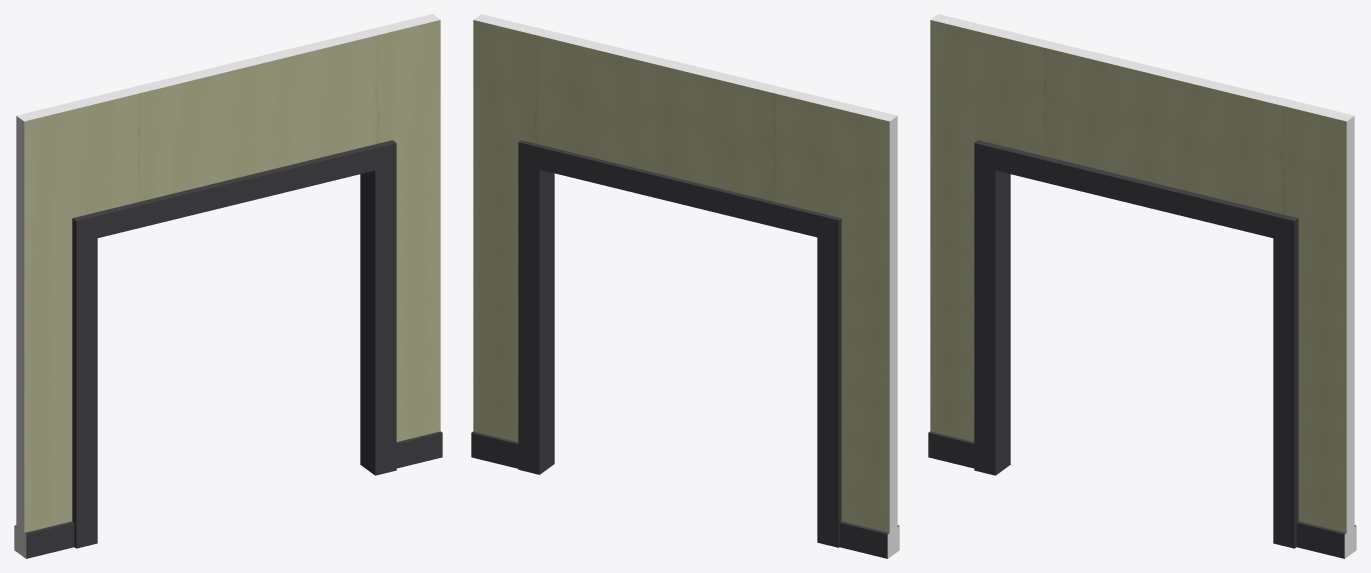
The model's file is SM_Buildings_WallDoorDouble_3x3_01_DoubleWallpaper.fbx.
3 renders of one model, left to right at view 1: azimuth 30°, elevation 25°; view 2: azimuth 150°, elevation 25°; view 3: azimuth 330°, elevation 25°, orthographic.
Parts seen in each view (by area): view 1: SM_Buildings_WallDoorDouble_3x3_01_DoubleWallpaper; view 2: SM_Buildings_WallDoorDouble_3x3_01_DoubleWallpaper; view 3: SM_Buildings_WallDoorDouble_3x3_01_DoubleWallpaper.
Boxes of the visible parts, bbox=[...] form: SM_Buildings_WallDoorDouble_3x3_01_DoubleWallpaper: bbox=[14, 14, 442, 558]; SM_Buildings_WallDoorDouble_3x3_01_DoubleWallpaper: bbox=[471, 14, 899, 558]; SM_Buildings_WallDoorDouble_3x3_01_DoubleWallpaper: bbox=[928, 14, 1356, 558].
Bounding box in the file's own units: 300 × 300 × 18.64.
1 material, 1 textured.
